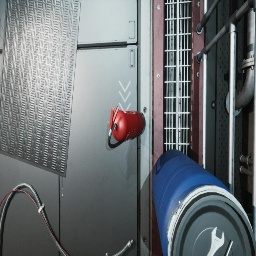FireExtinguisher ]: (108, 106, 146, 148)
